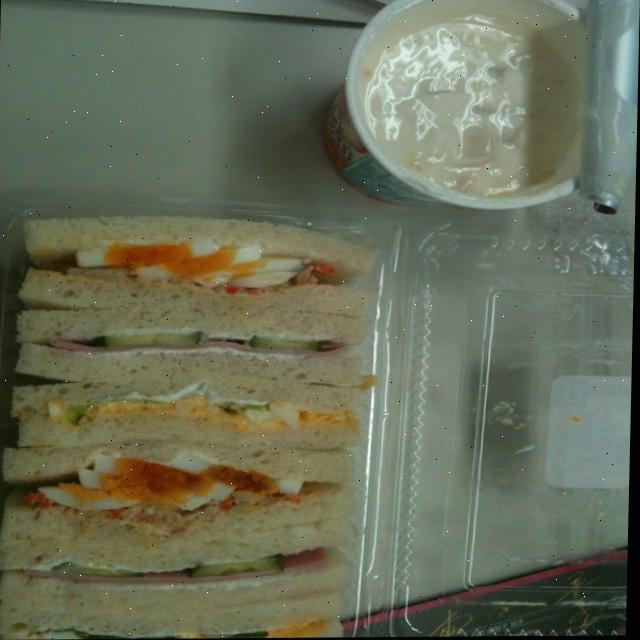三明治: (0, 205, 416, 640)
